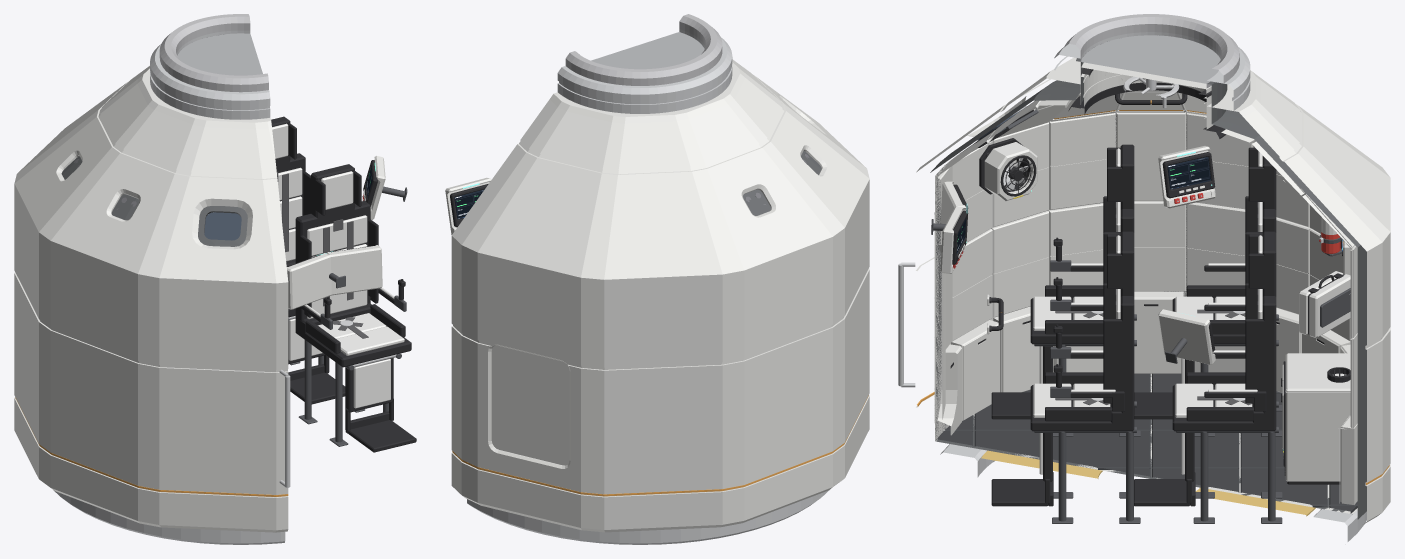
File: ax_cmd_04_mav_ascent_cabin_cutaway.glb
3 views of the same model, side by side, from view 1: azimuth 30°, elevation 25°; view 2: azimuth 150°, elevation 25°; view 3: azimuth 270°, elevation 25° (orthographic). The views are drawn at different scales.
Visible parts, largest first — view 1: ext_shell, seat_1_cushions, console_fascia, ext_docking_ring, ext_docking_port, ext_interface_ring, ext_docking_hatch, seat_1_legrest, seat_1_bolsters, seat_3_cushions, pressure_vessel, seat_1_legrest_pad (+14 smaller); view 2: ext_shell, ext_docking_ring, ext_interface_ring, ext_docking_port, ext_docking_hatch, ext_orange_stripes, pressure_vessel; view 3: ext_shell, pressure_vessel, eqm08_1_eqm08_enclosure_7171ec, panel_b2_f11, panel_b1_f12, seat_3_bolsters, panel_b1_f10, panel_b1_f09, ext_docking_hatch, seat_1_bolsters, panel_b2_f10, ext_docking_port (+71 smaller).
Part boxes in pixels (<box>): ext_shell: <box>14,66,288,532</box>; seat_1_cushions: <box>307,171,404,355</box>; console_fascia: <box>286,245,382,309</box>; ext_docking_ring: <box>150,30,270,119</box>; ext_docking_port: <box>159,14,268,92</box>; ext_interface_ring: <box>53,490,285,544</box>; ext_docking_hatch: <box>177,33,262,75</box>; seat_1_legrest: <box>345,358,416,452</box>; seat_1_bolsters: <box>299,171,405,353</box>; seat_3_cushions: <box>272,123,302,261</box>; pressure_vessel: <box>61,34,247,246</box>; seat_1_legrest_pad: <box>353,359,390,408</box>; ext_shell: <box>451,59,869,532</box>; ext_docking_ring: <box>557,29,732,113</box>; ext_interface_ring: <box>467,489,830,544</box>; ext_docking_port: <box>565,14,722,85</box>; ext_docking_hatch: <box>591,32,704,69</box>; ext_orange_stripes: <box>452,395,868,496</box>; pressure_vessel: <box>702,45,821,215</box>; ext_shell: <box>916,57,1390,524</box>; pressure_vessel: <box>930,41,1366,519</box>; eqm08_1_eqm08_enclosure_7171ec: <box>1285,353,1350,481</box>; panel_b2_f11: <box>1049,113,1115,209</box>; panel_b1_f12: <box>991,211,1048,317</box>; seat_3_bolsters: <box>1186,234,1267,421</box>; panel_b1_f10: <box>1134,201,1185,291</box>; panel_b1_f09: <box>1186,202,1245,285</box>; ext_docking_hatch: <box>1081,35,1220,88</box>; seat_1_bolsters: <box>1045,234,1125,421</box>; panel_b2_f10: <box>1116,112,1185,200</box>; ext_docking_port: <box>1064,14,1239,82</box>.
Size of the model in its own units: 2.66 by 2.82 by 2.78.
38 materials, 1 textured.
